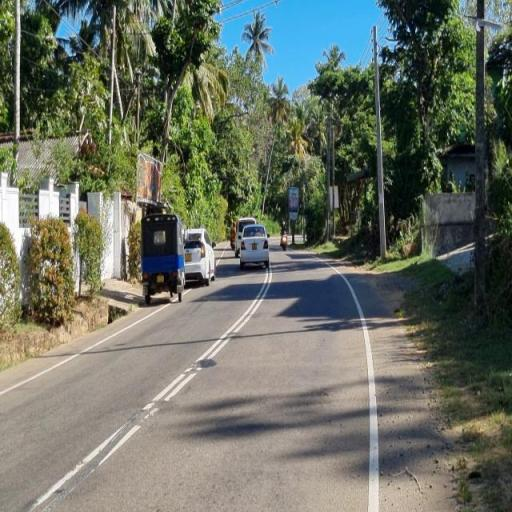double_white_line: (142, 258, 272, 418)
